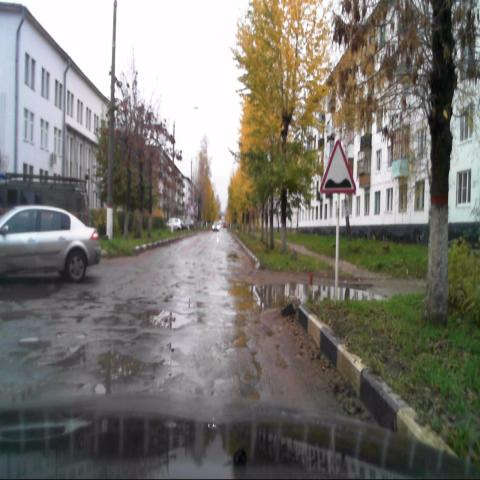1_16: (320, 140, 357, 193)
